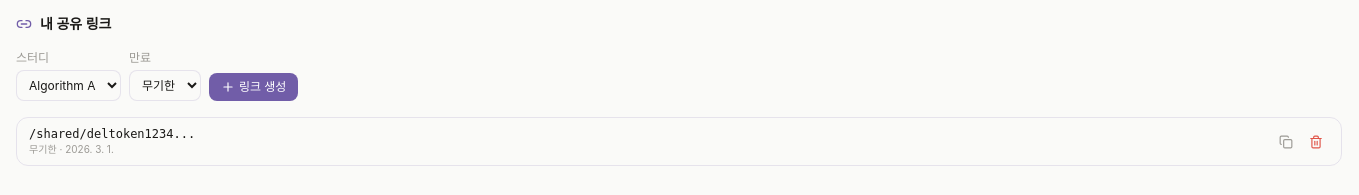
it: ShareLinkManager › link deactivation › deactivates link and removes from list after confirm
Expected: the text "/shared/deltoken1234..." is shown, [29, 127, 195, 141]
Click the button named "링크 비활성화" at (1316, 142), box [1303, 128, 1329, 154]
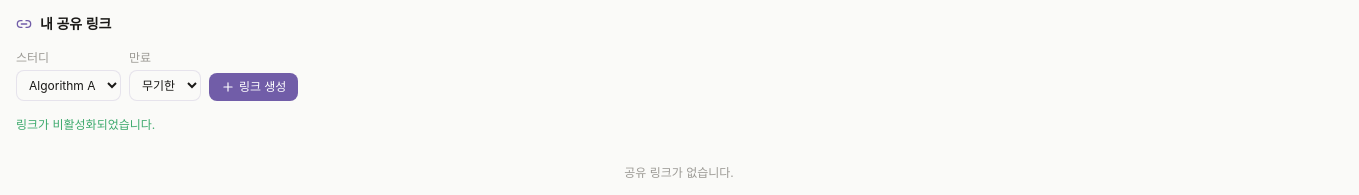
Result: the text "deltoken1234" is gone
Result: the text "링크가 비활성화되었습니다." is shown at [16, 117, 155, 132]
